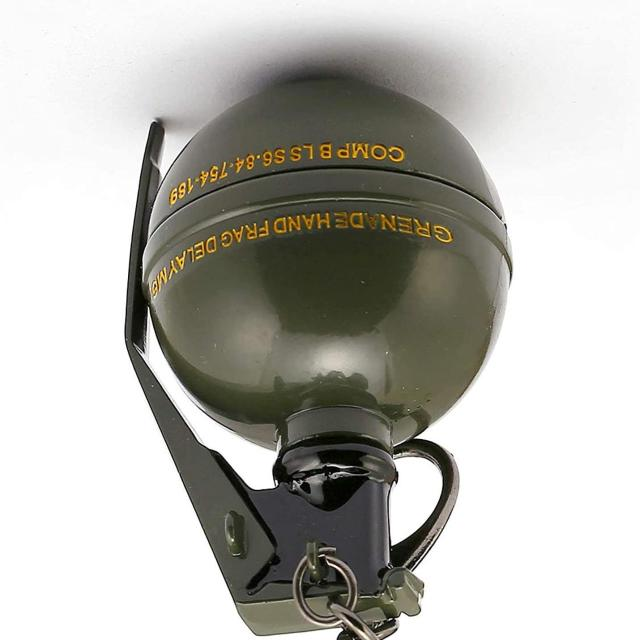grenade: (126, 80, 515, 640)
